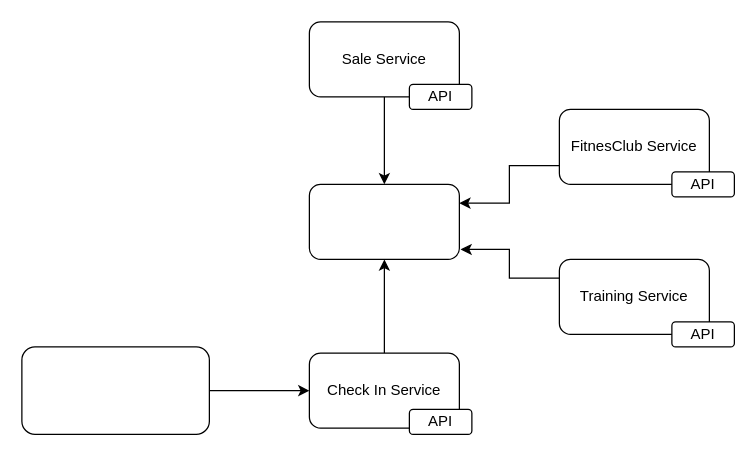
Image size: 756x456. Some labels were removed from this diagram. The centre of each missing label's shape, as x and y in pixels:
Managment Service: [383,221]
Web service: [115,390]
